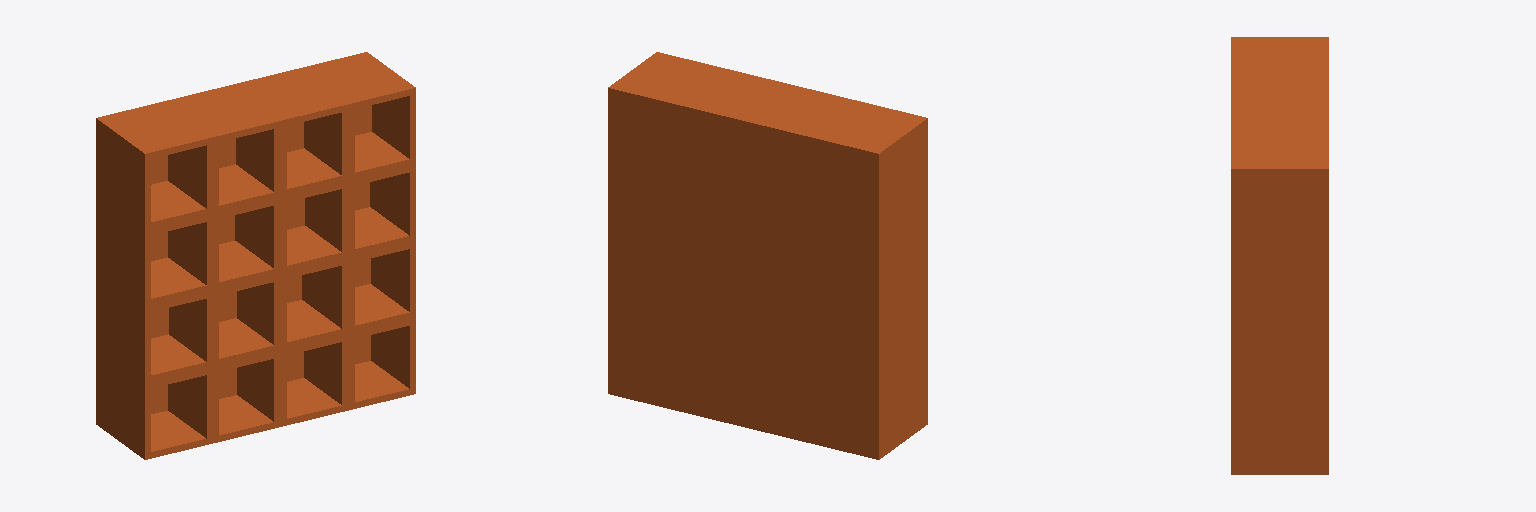
File: shujia.obj
The picture shows the model from 3 angles: view 1: azimuth 30°, elevation 25°; view 2: azimuth 150°, elevation 25°; view 3: azimuth 270°, elevation 25°; orthographic projection.
Visible parts, largest first — view 1: 立方体.018; view 2: 立方体.018; view 3: 立方体.018.
Part boxes in pixels (x1,y1,x2,y2): 立方体.018: (96,52,415,459); 立方体.018: (608,52,927,459); 立方体.018: (1231,37,1328,474).
Bounding box in the file's own units: 3.07 × 3.31 × 0.9628.